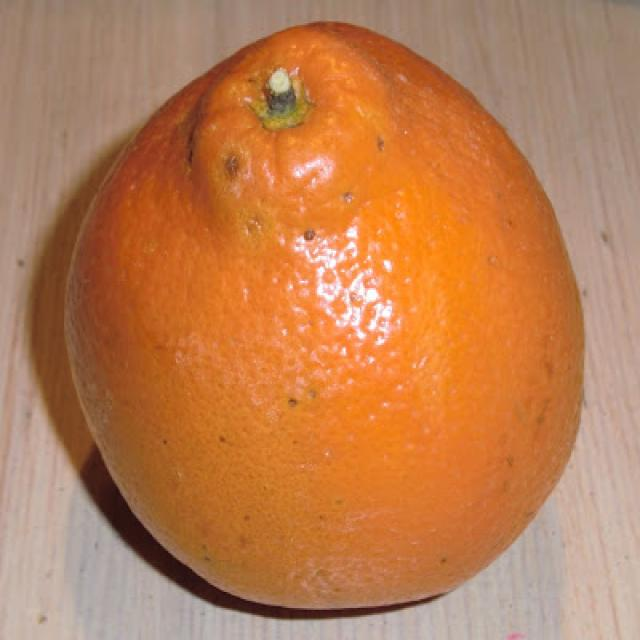Orange: (69, 19, 590, 613)
